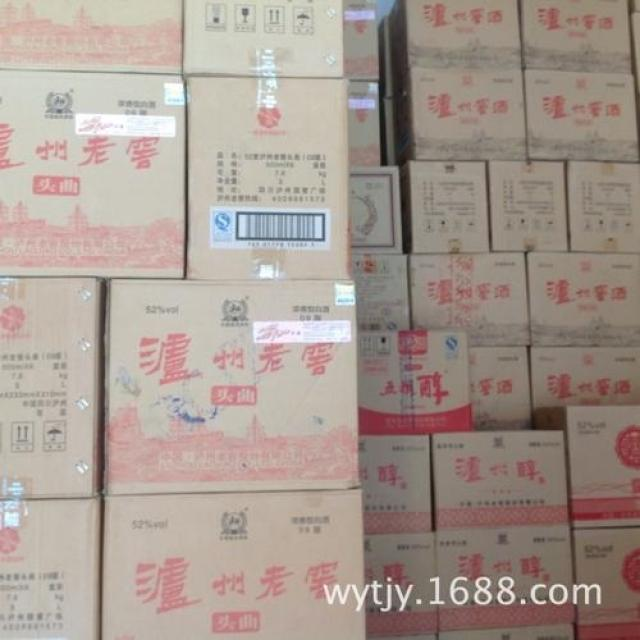box: (102, 276, 360, 495), (100, 486, 366, 640), (0, 69, 183, 279), (186, 73, 351, 279), (0, 278, 102, 500), (0, 492, 104, 639), (435, 522, 576, 630), (430, 426, 570, 531), (0, 0, 184, 73), (392, 67, 527, 161), (357, 329, 472, 435), (184, 1, 343, 77), (406, 251, 531, 347), (390, 1, 522, 88), (522, 69, 639, 163), (526, 252, 640, 346), (566, 404, 640, 530), (532, 347, 640, 431), (402, 161, 490, 255), (522, 1, 634, 73), (364, 534, 438, 639), (485, 160, 570, 251), (360, 435, 434, 536), (563, 160, 640, 252), (571, 529, 640, 625), (468, 343, 534, 430), (347, 163, 402, 255), (351, 252, 410, 332), (343, 1, 379, 79), (349, 79, 380, 166), (438, 622, 576, 639), (379, 15, 394, 99), (577, 623, 640, 640), (631, 14, 640, 92)
